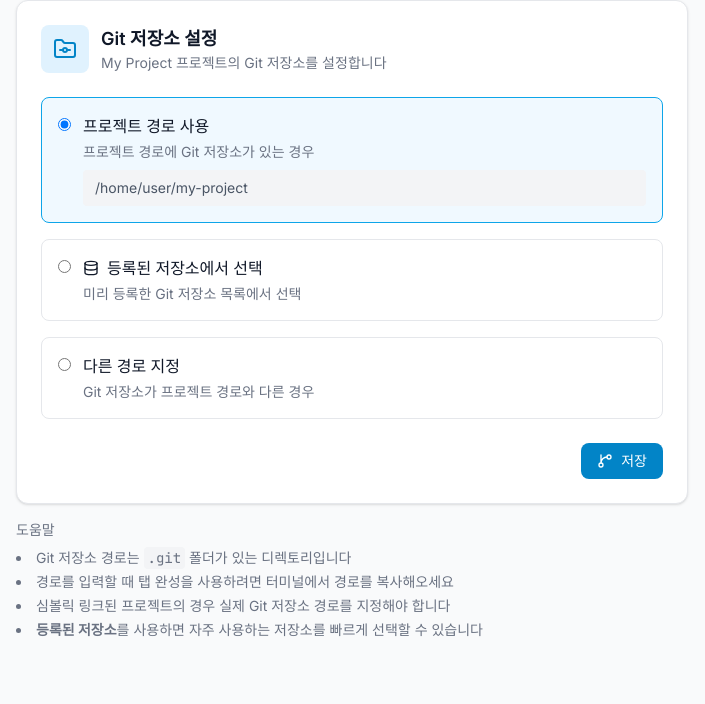
GitSetup › shows custom path input when custom option is selected
The image size is (705, 704).
# Click on the custom path radio
Click the text "다른 경로 지정": coordinates (131, 366) [83,356,180,376]
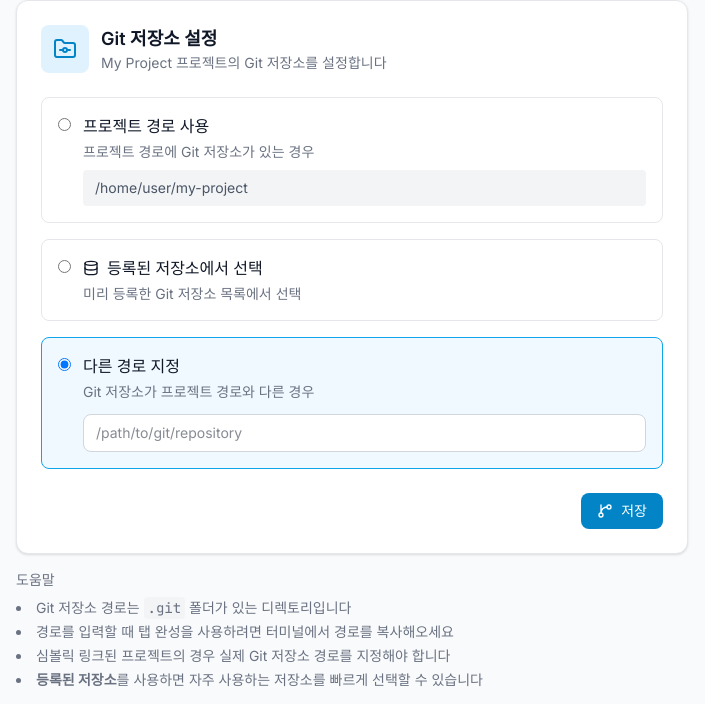
Check: the field with placeholder "/path/to/git/repository" is shown, box [83,414,646,452]
